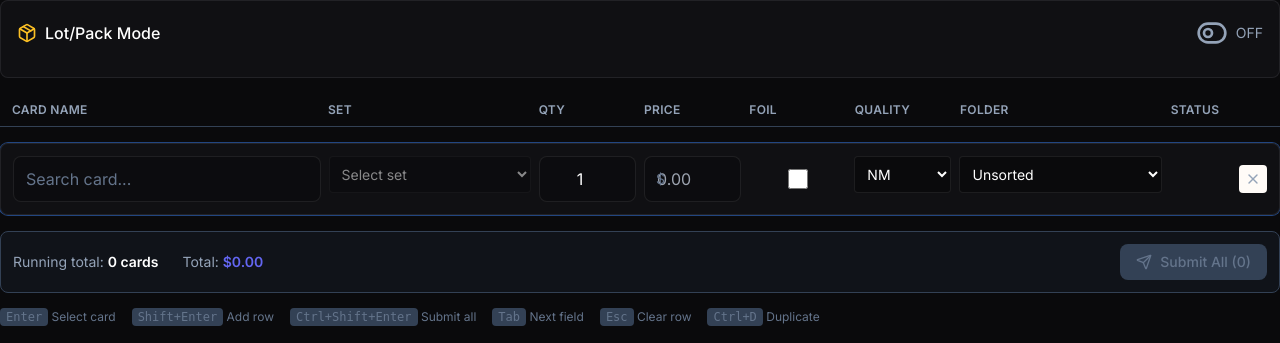
Test case: RapidEntryTable Component › clears row when clear button is clicked
This screenshot has width=1280, height=343.
Type "Test Card" into the field with placeholder "Search card..." at (167, 179), box [13, 156, 320, 202]
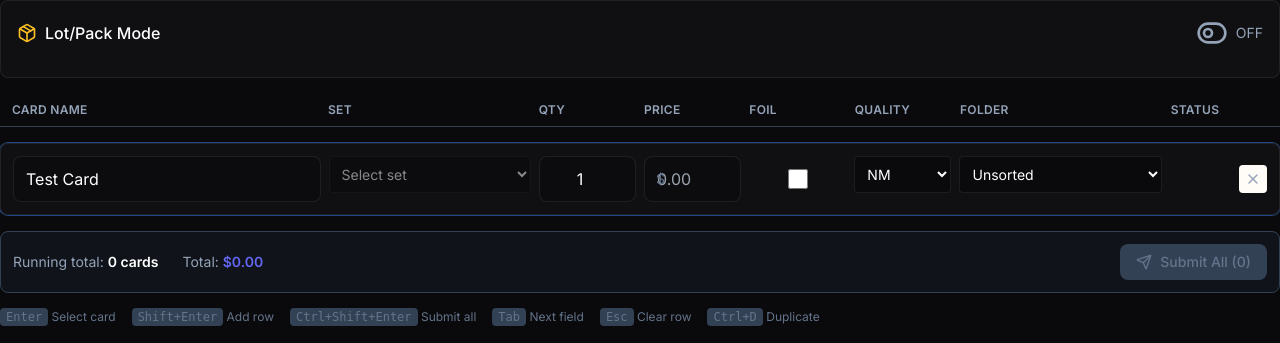
// Click the clear button (X button)
Click the button titled "Clear row (Escape)" at (1253, 179), box [1239, 165, 1267, 193]
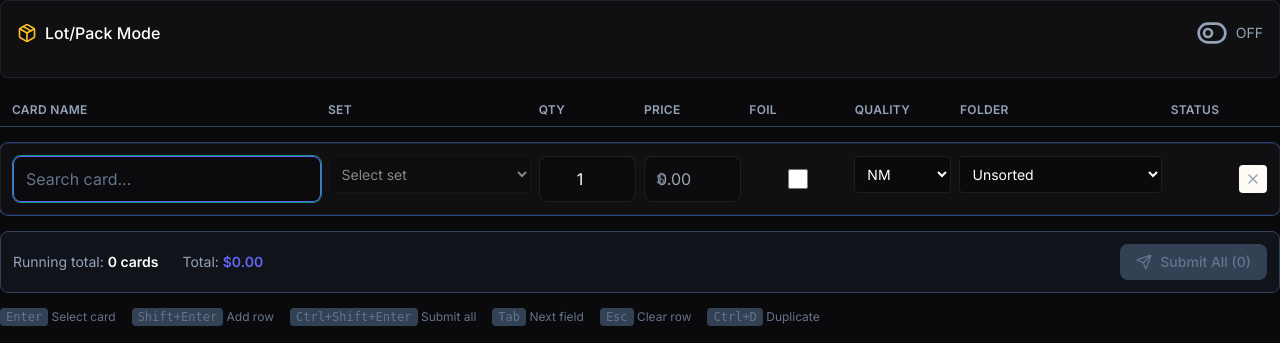
Now the field with placeholder "Search card..." is empty, box [13, 156, 320, 202]
